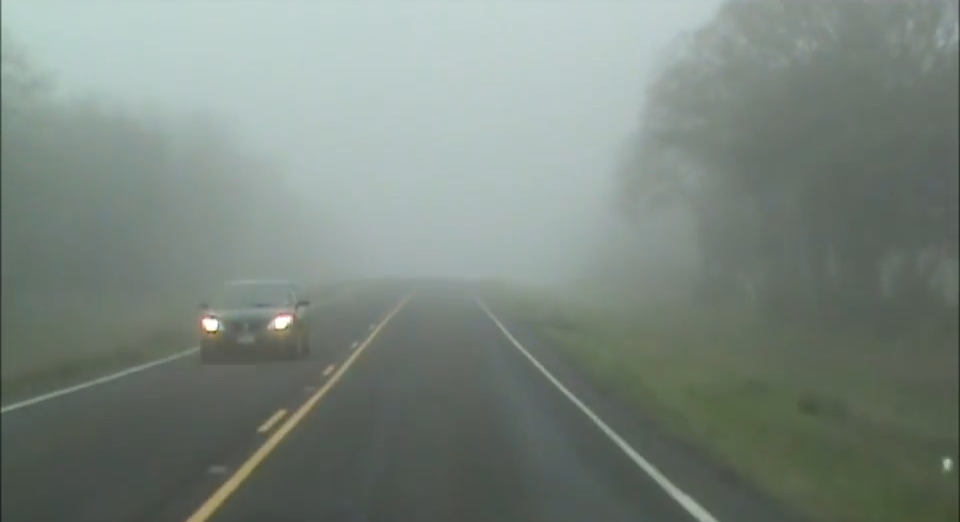car: (195, 277, 310, 357)
